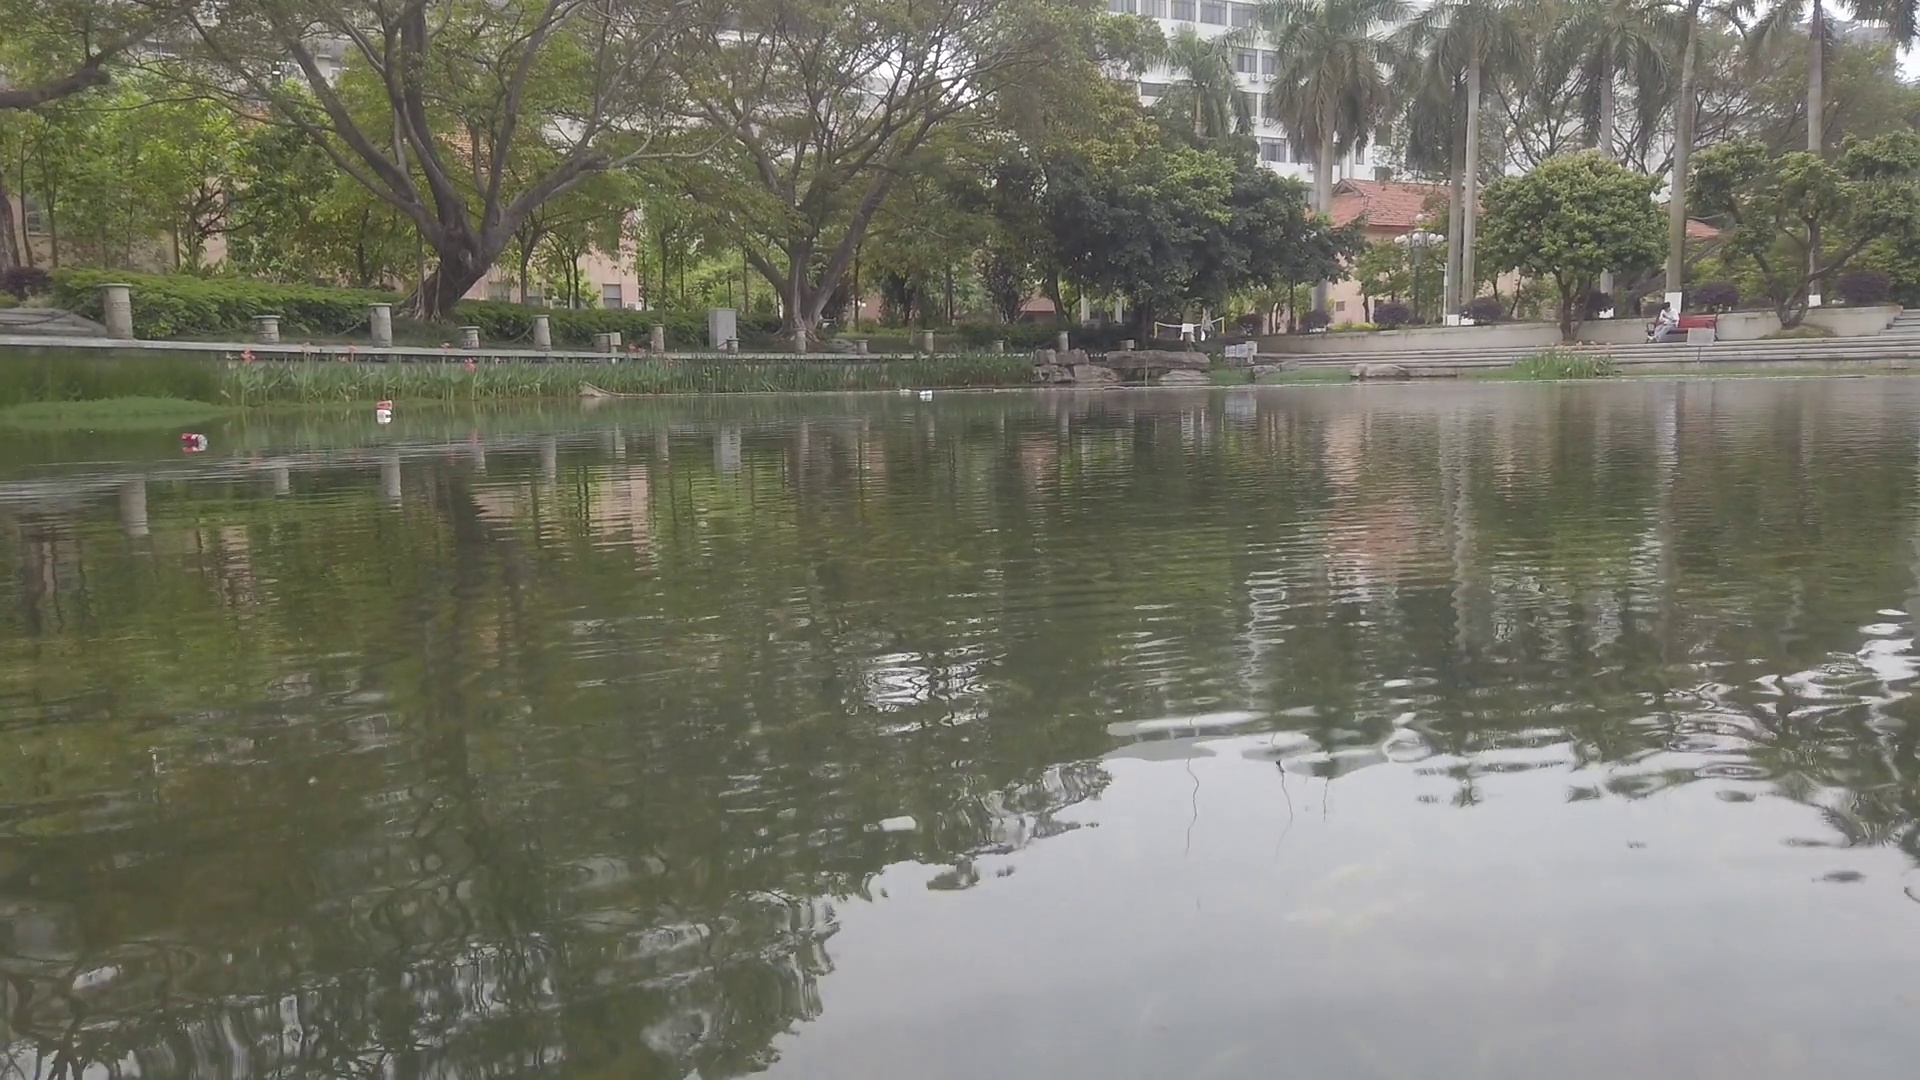bottle: (181, 431, 207, 447), (376, 400, 394, 406), (920, 390, 934, 397), (899, 390, 913, 394)
carton: (378, 407, 392, 421)
